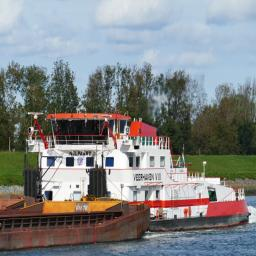tugboat: (23, 108, 254, 236)
